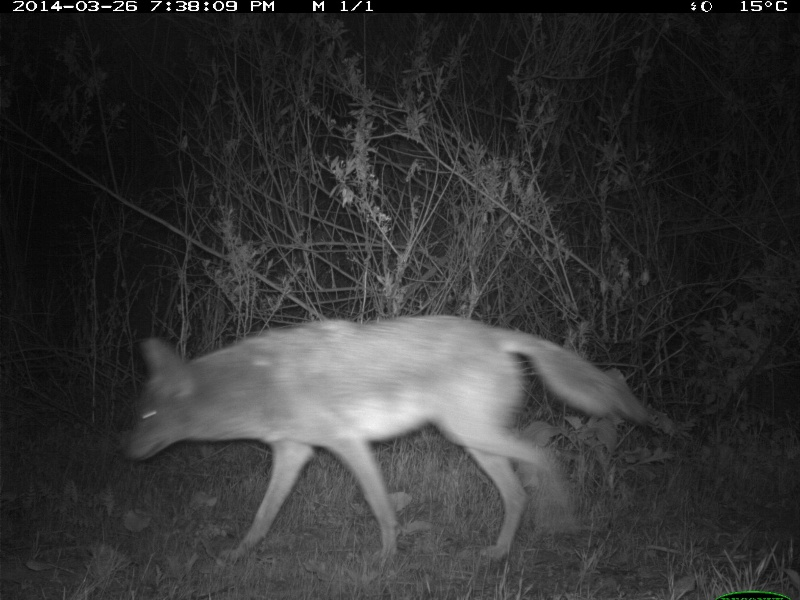coyote: (126, 308, 683, 568)
